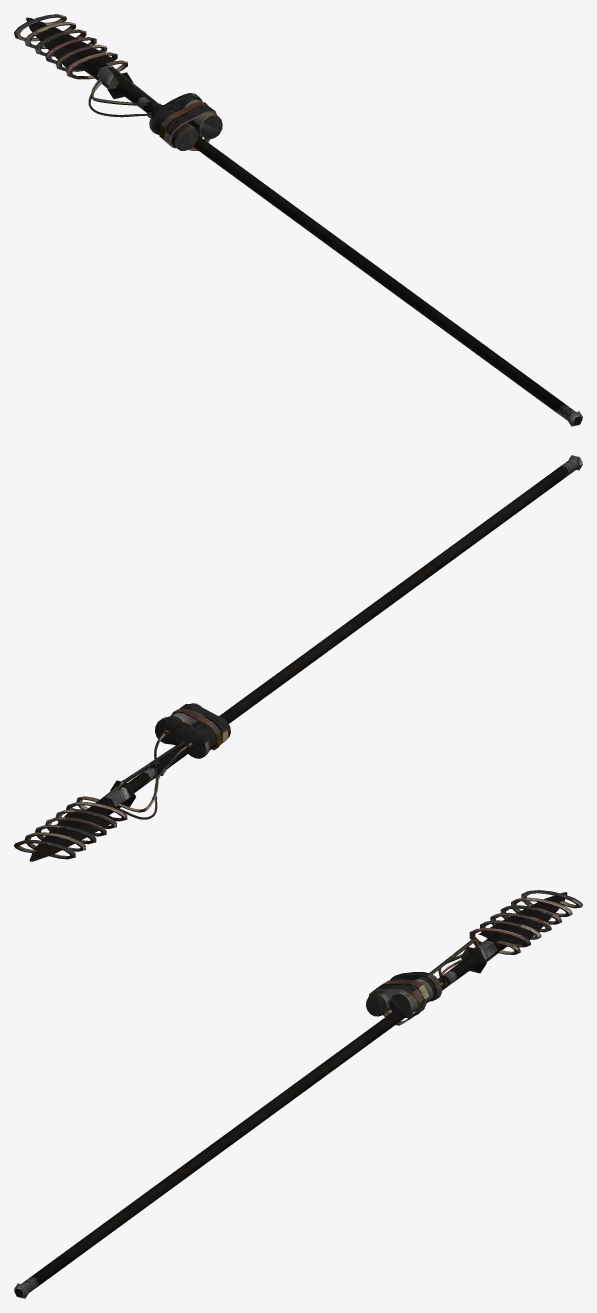
The picture shows the model from 3 angles, top to bottom: view 1: azimuth 30°, elevation 25°; view 2: azimuth 150°, elevation 25°; view 3: azimuth 330°, elevation 25°; orthographic projection.
Visible parts, largest first — view 1: mesh_0; view 2: mesh_0; view 3: mesh_0.
Part boxes in pixels (x1=…): mesh_0: x1=14, y1=14, x2=582, y2=426; mesh_0: x1=14, y1=455, x2=582, y2=861; mesh_0: x1=14, y1=890, x2=582, y2=1298.
Bounding box in the file's own units: 5.45 × 4.44 × 90.74.
1 material, 1 textured.
